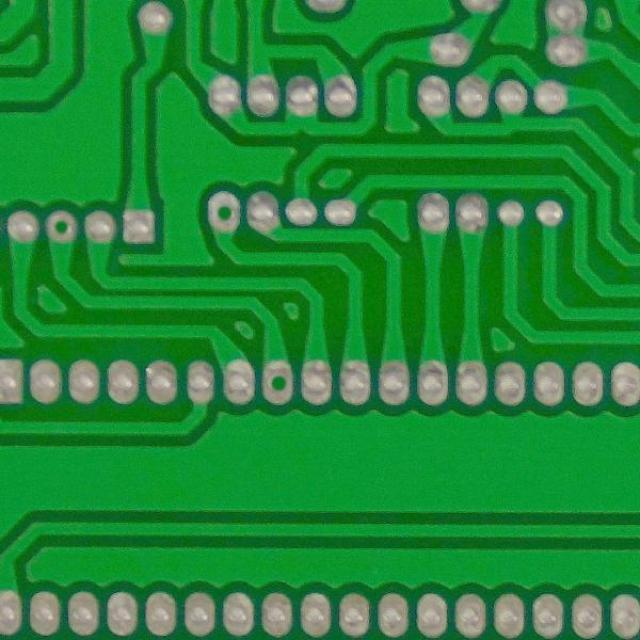Missing_Hole: (200, 189, 246, 236), (256, 358, 300, 407), (40, 208, 81, 245)
